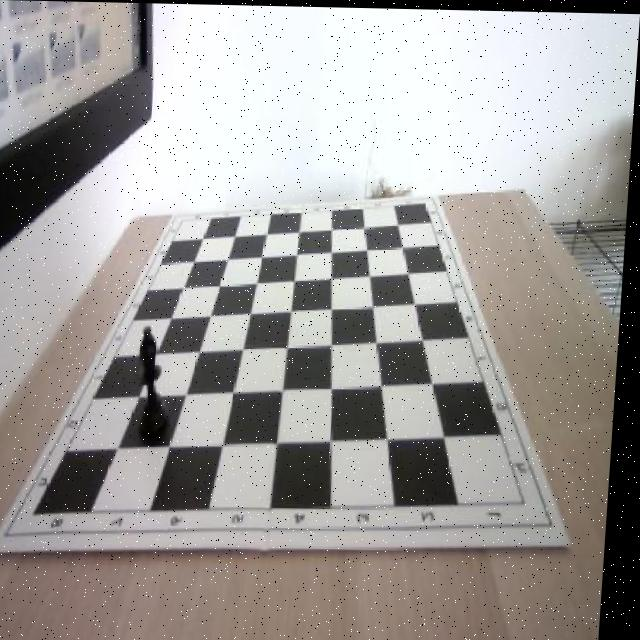bishop: (137, 324, 180, 438)
